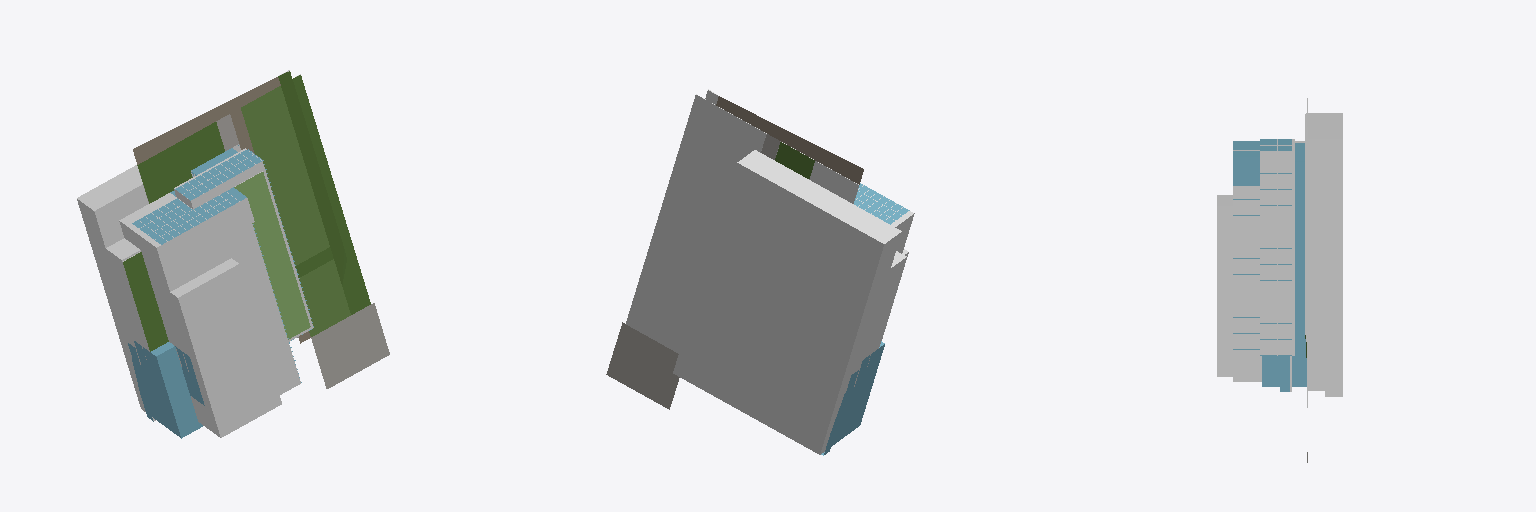
File: opt1-9.obj
3 views of the same model, side by side, from view 1: azimuth 30°, elevation 25°; view 2: azimuth 150°, elevation 25°; view 3: azimuth 270°, elevation 25° (orthographic).
Bounding box in the file's own units: 347 × 369 × 128.